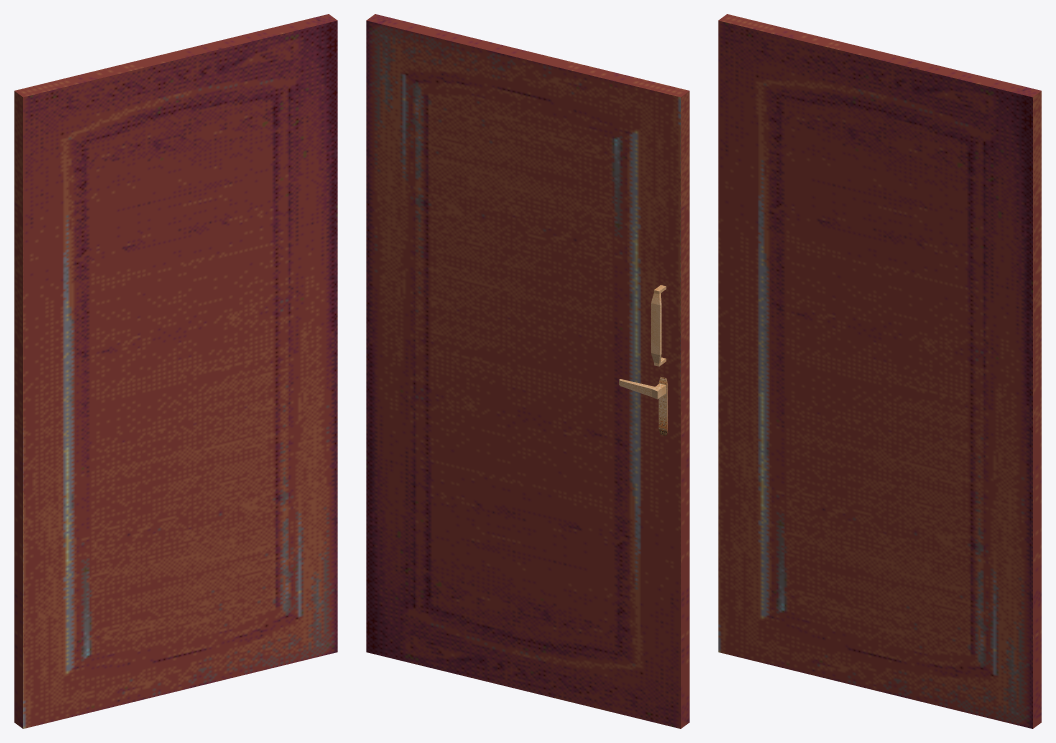
The model's file is door_01.glb.
The picture shows the model from 3 angles, left to right: view 1: azimuth 30°, elevation 25°; view 2: azimuth 150°, elevation 25°; view 3: azimuth 330°, elevation 25°; orthographic projection.
Visible parts, largest first — view 1: polySurface35.001; view 2: polySurface35.001; view 3: polySurface35.001.
Part boxes in pixels (x1,y1,x2,y2): polySurface35.001: [14, 14, 337, 728]; polySurface35.001: [366, 14, 689, 728]; polySurface35.001: [718, 14, 1041, 728].
Size of the model in its own units: 1.09 by 2.1 by 0.1101.
Materials: 2 (2 with a texture image).
